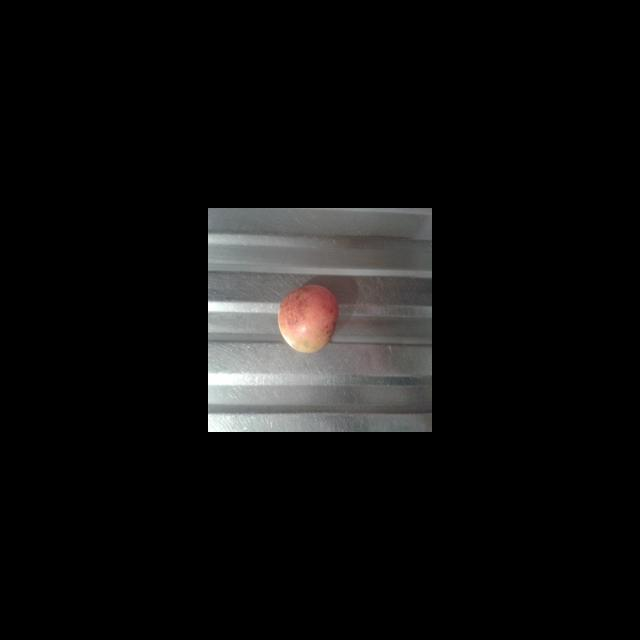Mango: (277, 283, 339, 353)
